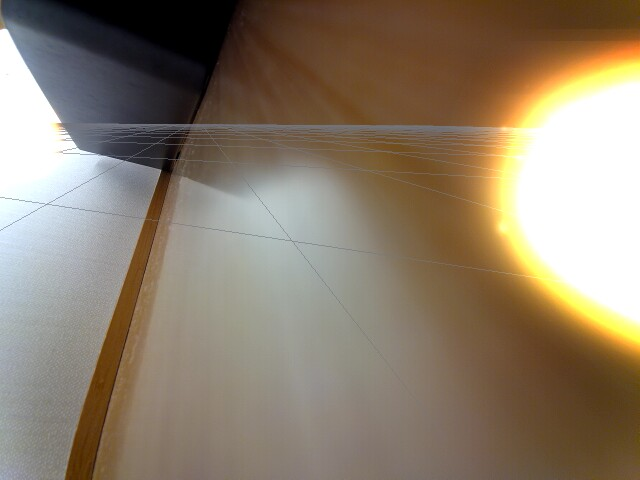firebig: (472, 35, 640, 354)
